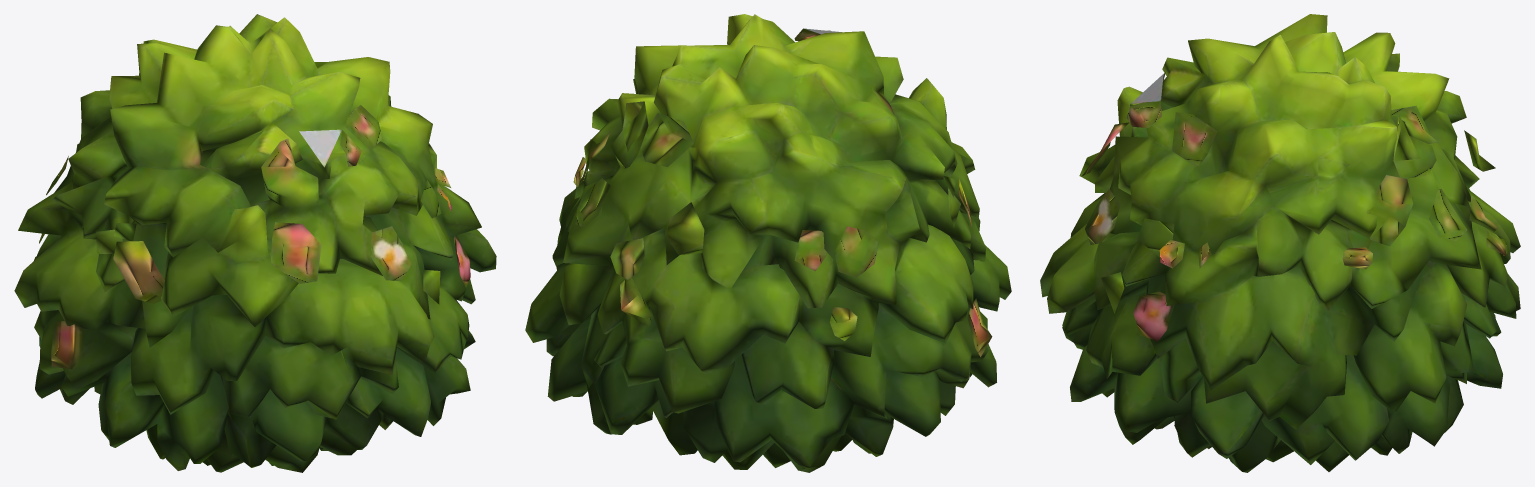
The model's file is buisson_fleuri.glb.
3 views of the same model, side by side, from view 1: azimuth 30°, elevation 25°; view 2: azimuth 150°, elevation 25°; view 3: azimuth 270°, elevation 25° (orthographic). The views are drawn at different scales.
Parts seen in each view (by area): view 1: geometry_0; view 2: geometry_0; view 3: geometry_0.
Part boxes in pixels (box(x1,y1,x2,y2)): geometry_0: box(14, 14, 496, 472); geometry_0: box(525, 14, 1011, 472); geometry_0: box(1040, 14, 1520, 472).
Bounding box in the file's own units: 0.9468 × 0.8857 × 0.9556.
Materials: 1 (1 with a texture image).
